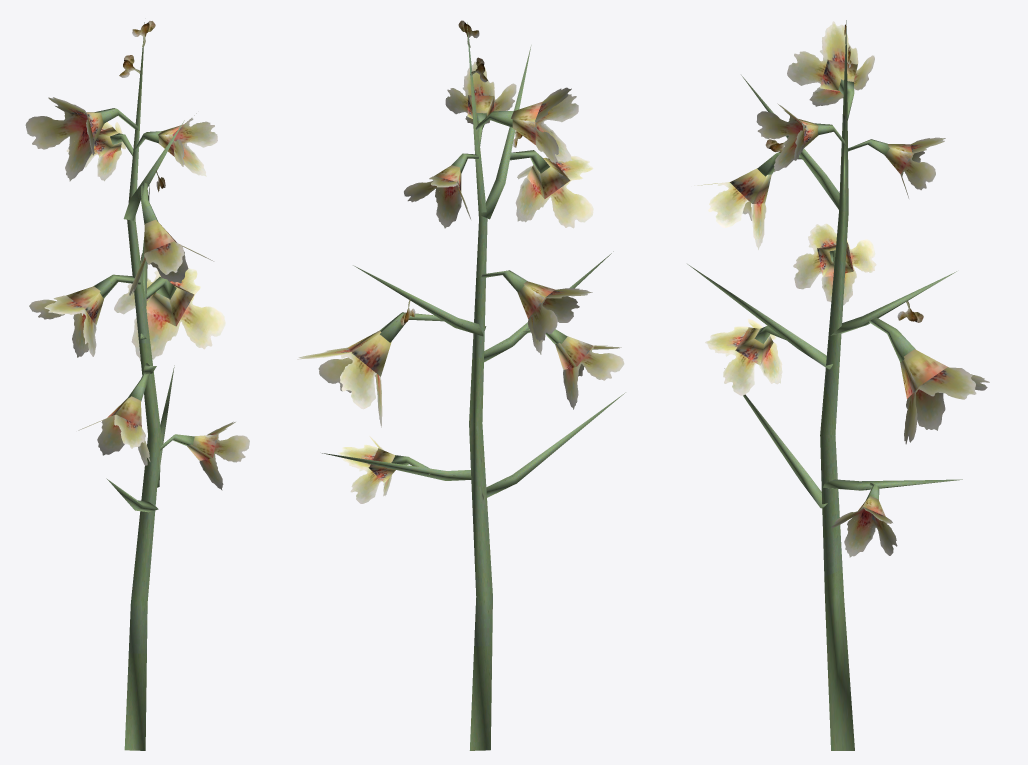
The model's file is flow_catalpaflower_l0.fbx.
3 renders of one model, left to right at view 1: azimuth 30°, elevation 25°; view 2: azimuth 150°, elevation 25°; view 3: azimuth 270°, elevation 25°, orthographic.
Parts seen in each view (by area): view 1: mesh_node; view 2: mesh_node; view 3: mesh_node.
Part boxes in pixels (left/top/right/bottom): mesh_node: left=25, top=21, right=249, bottom=750; mesh_node: left=297, top=20, right=625, bottom=750; mesh_node: left=687, top=20, right=989, bottom=750.
Size of the model in its own units: 0.2271 by 0.6054 by 0.2524.
2 materials, 2 textured.
